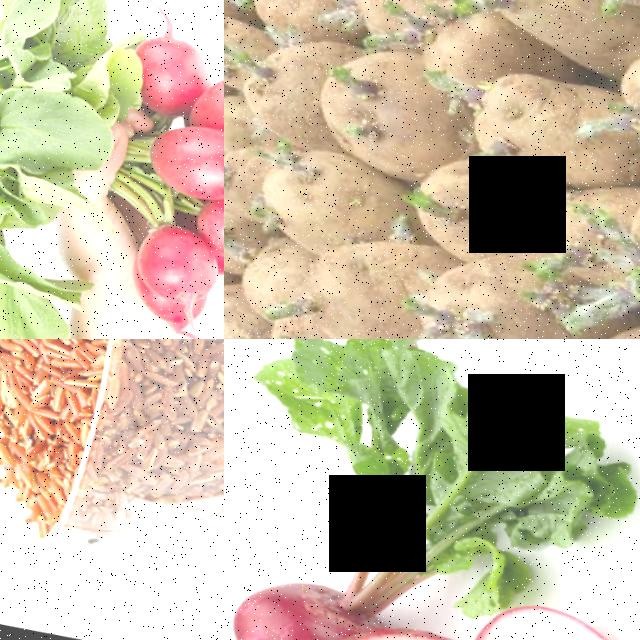potato: (296, 37, 460, 194), (273, 223, 455, 339), (241, 138, 399, 262), (437, 0, 640, 92), (400, 245, 575, 339), (598, 124, 640, 327), (602, 31, 640, 169)
radishes: (224, 339, 633, 640), (0, 0, 224, 339)
red rice: (0, 339, 149, 528)
